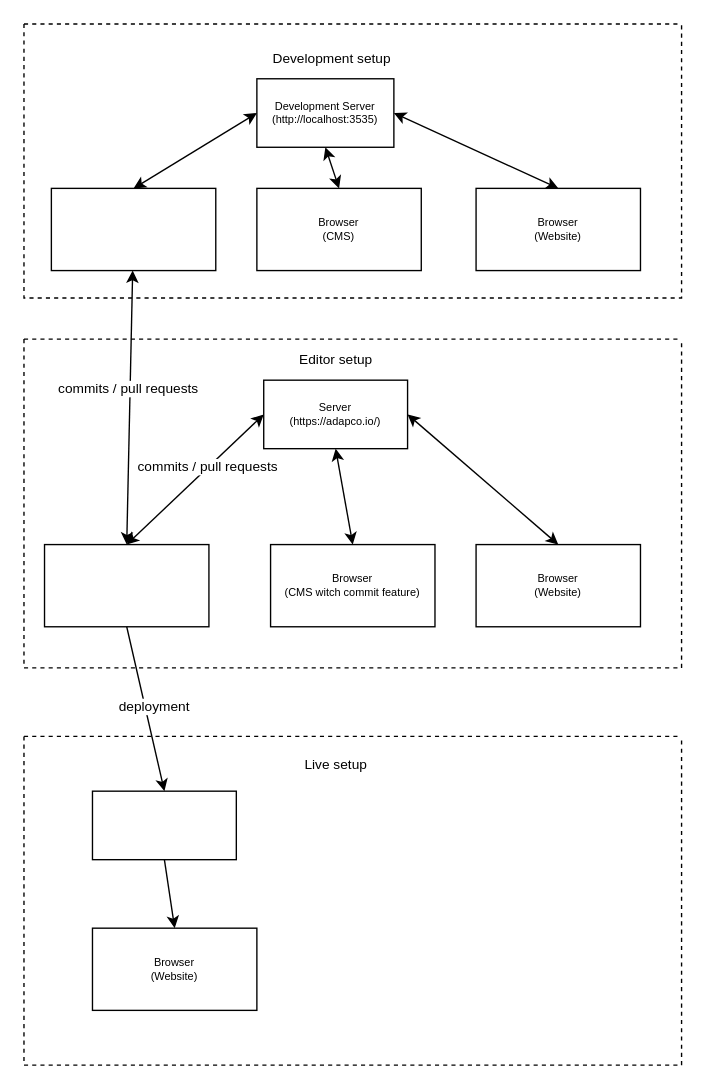
This 706x1089 diagram has some shape labels left out. Here are the shapes that lost their labels. From the top down, the centre of each, then its label:
At (x=133, y=229): "File system (git repository)".
At (x=126, y=585): "Github (git repository)".
At (x=163, y=825): "Server (Deployed content)".
